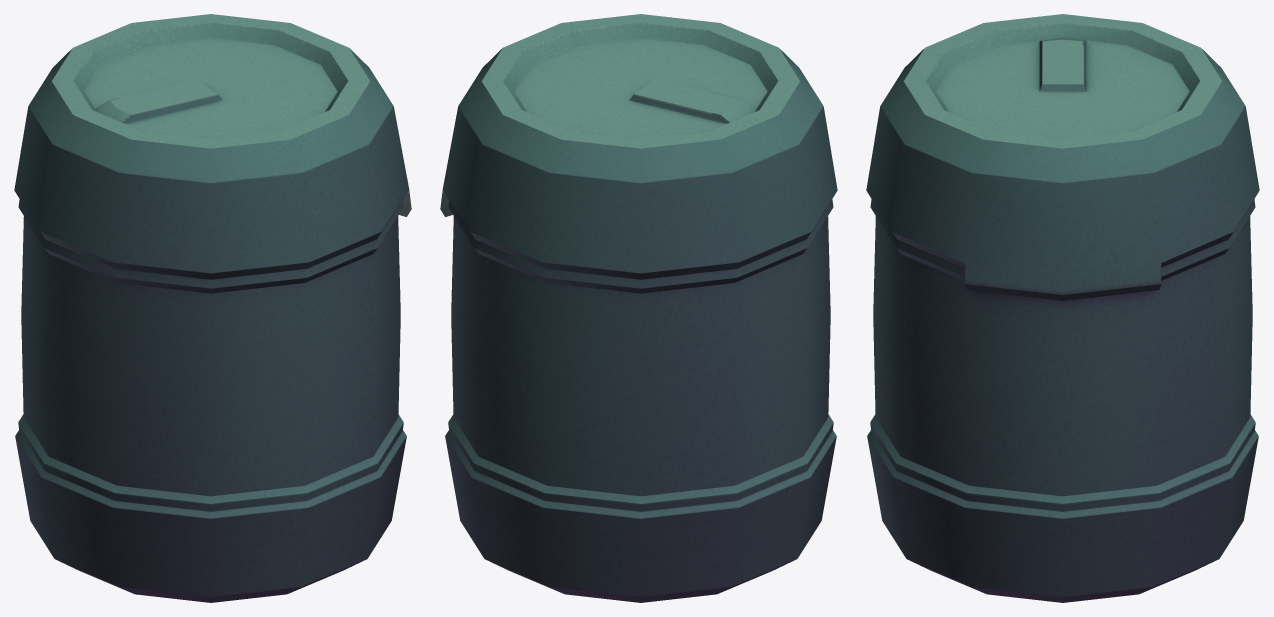
Rendered from Barrel.glb.
3 views of the same model, side by side, from view 1: azimuth 30°, elevation 25°; view 2: azimuth 150°, elevation 25°; view 3: azimuth 270°, elevation 25° (orthographic).
Parts seen in each view (by area): view 1: Cylinder.011; view 2: Cylinder.011; view 3: Cylinder.011.
Boxes of the visible parts, x1=… form: Cylinder.011: x1=14, y1=14, x2=411, y2=602; Cylinder.011: x1=440, y1=14, x2=837, y2=602; Cylinder.011: x1=866, y1=14, x2=1259, y2=602.
Size of the model in its own units: 0.6432 by 0.8171 by 0.6364.
Materials: 1 (1 with a texture image).
